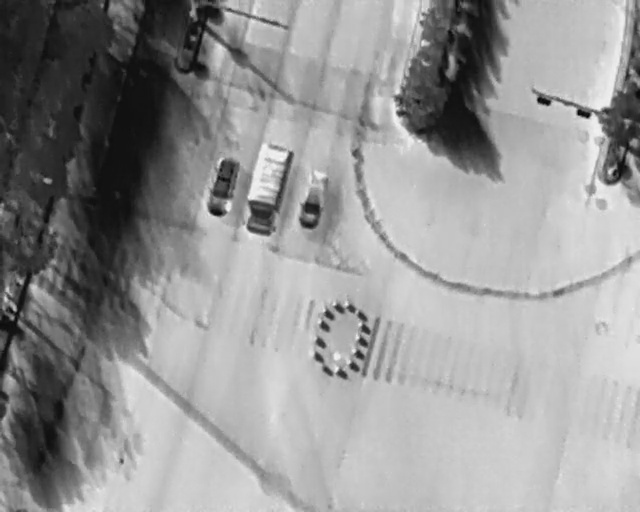Car: (202, 154, 241, 219), (295, 169, 329, 230)
OtherVehicle: (239, 142, 296, 236)
